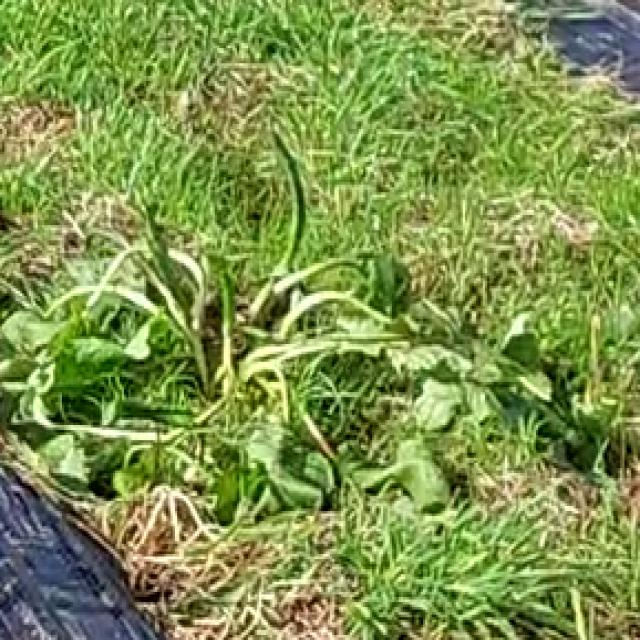organic waste: (51, 139, 613, 524)
